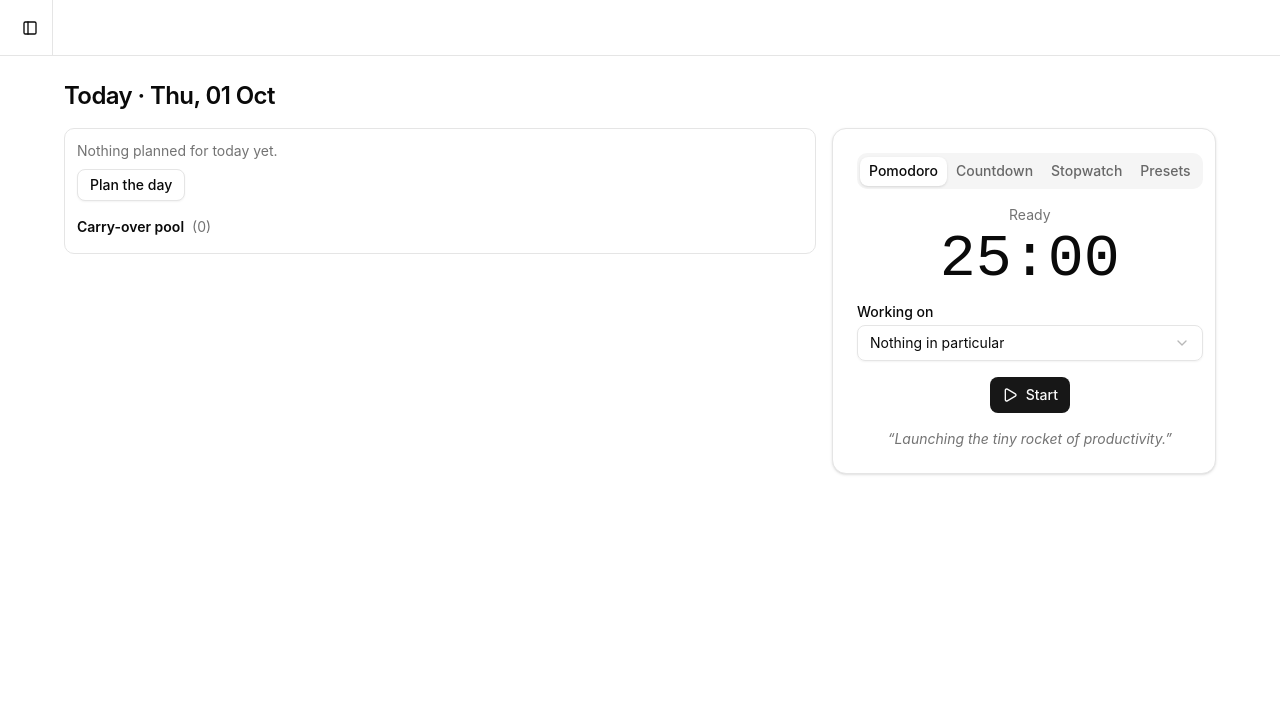
Test: Timer panel › ends a phase when time runs out: readies the break and logs the session
What coordinates should you click on to do the following:
click the button with test id "timer-start"
I would click on:
 (1030, 395)
Its box is [990,377,1070,413].
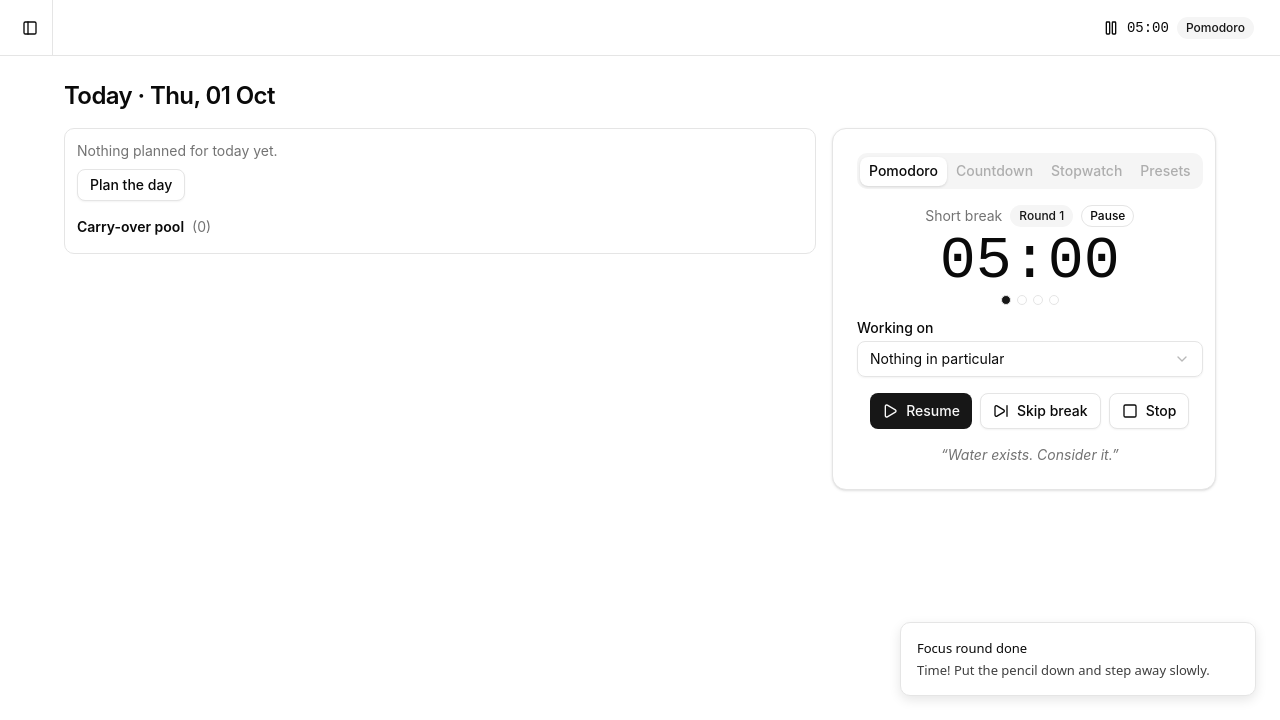
Expected: the text with test id "timer-phase" reads "Short break", [925,207,1002,224]
Expected: the button with test id "timer-skip" is shown, [980,393,1101,429]
